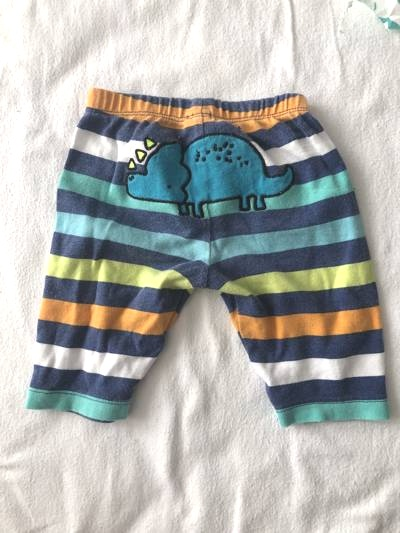Pants: (24, 86, 387, 422)
